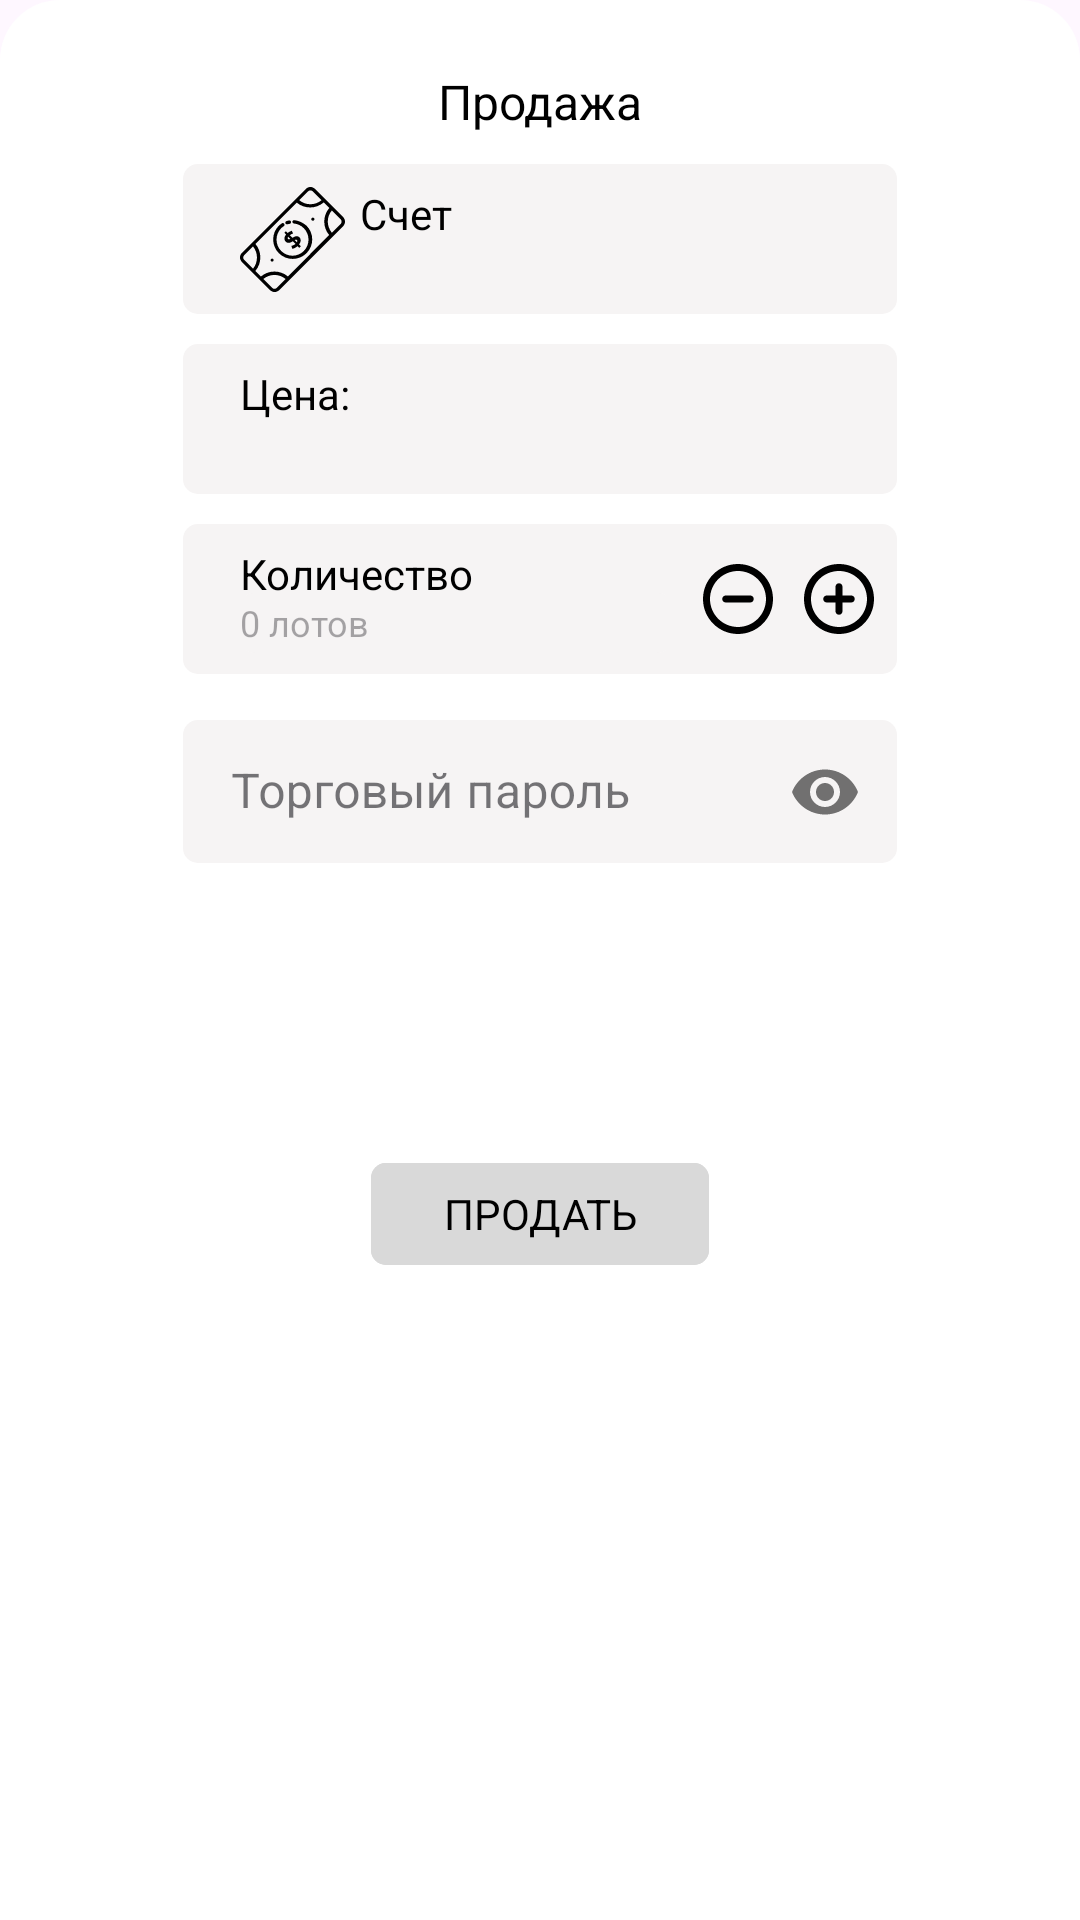

Screen size 1080w x 1920h. Icon name, then its center in pixels as (x=x, y=y):
circle minus: (x=738, y=599)
circle plus: (x=839, y=599)
dollar cash: (x=292, y=239)
